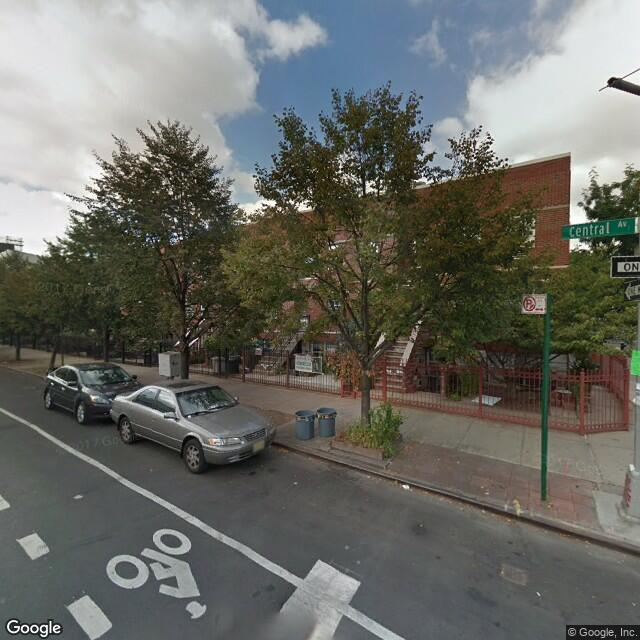litter: (72, 492, 86, 501), (400, 482, 411, 491), (292, 479, 299, 486)
